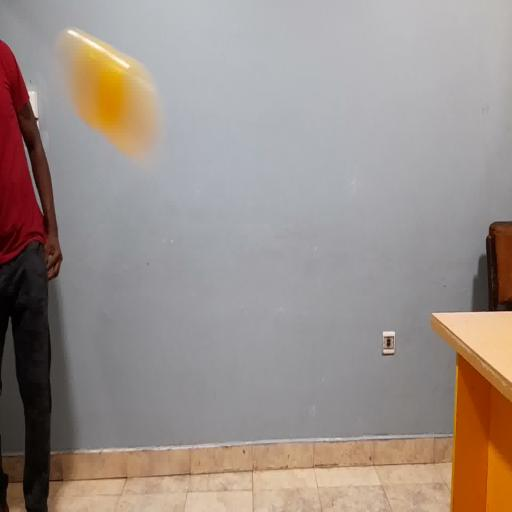plastic-ball: (57, 28, 159, 158)
